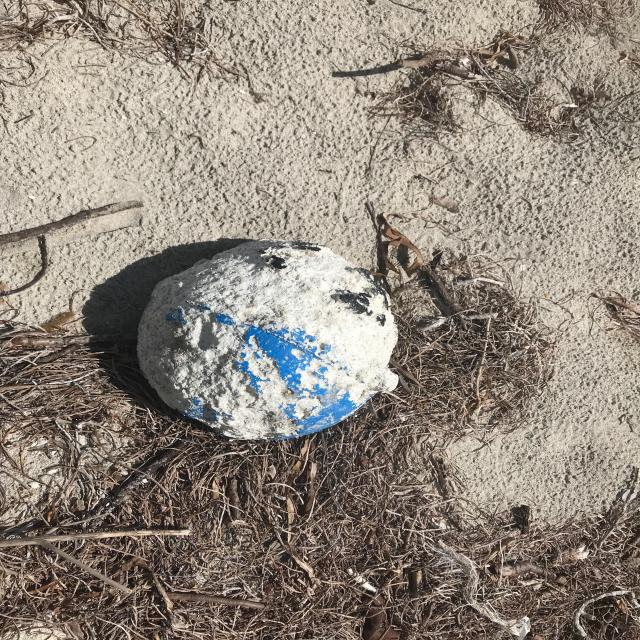litter: (137, 239, 401, 440)
